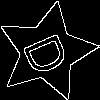D: (21, 26, 79, 79)
